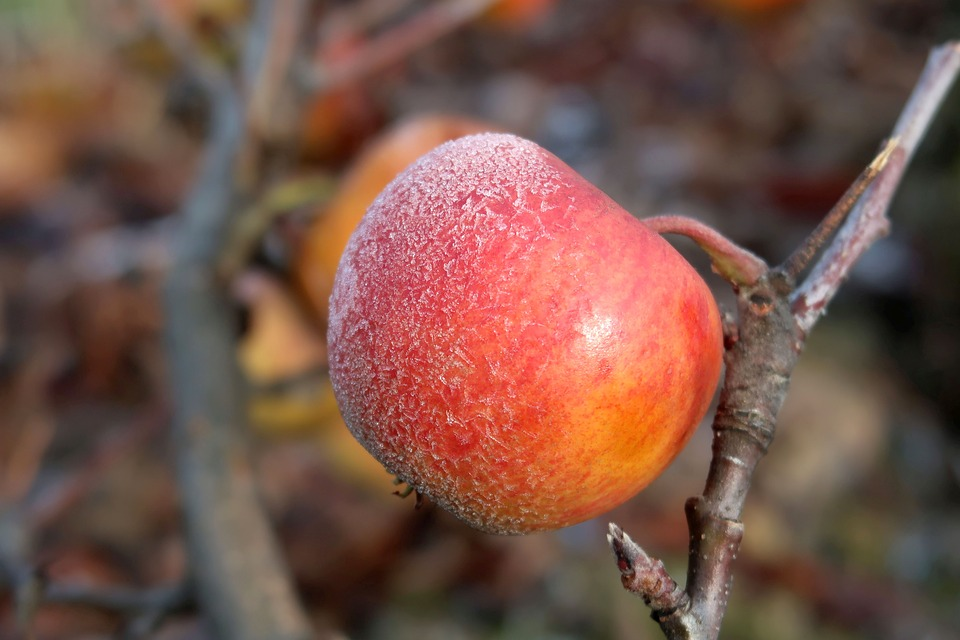apple: (323, 128, 724, 535)
